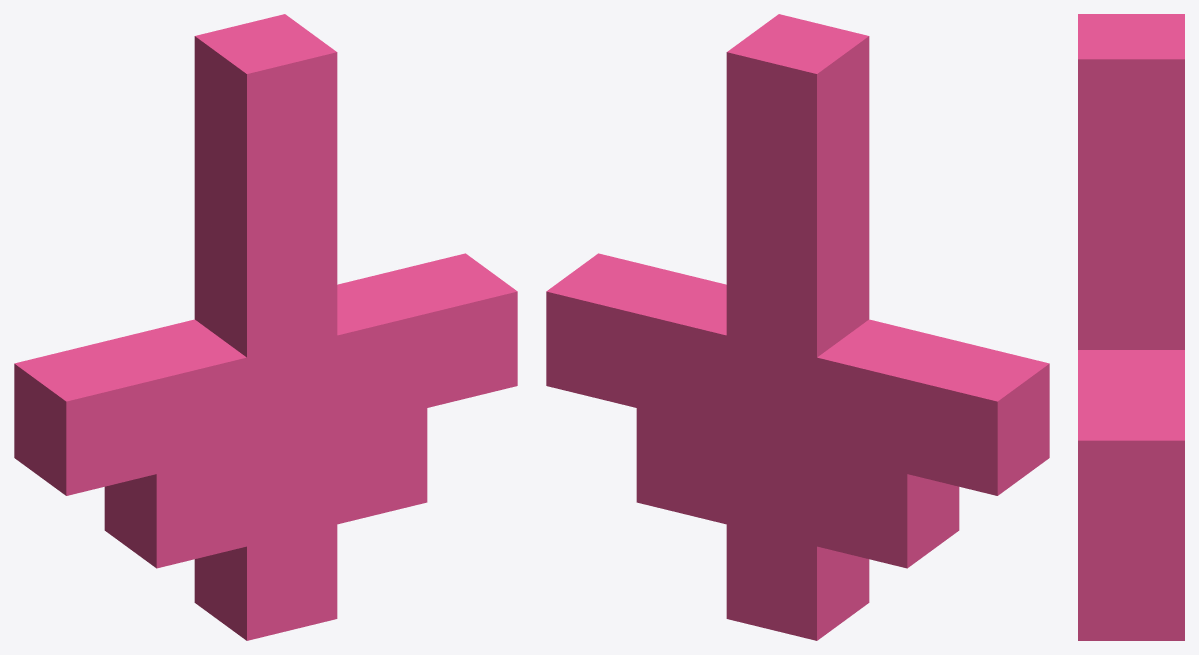
The model's file is target.obj.
3 views of the same model, side by side, from view 1: azimuth 30°, elevation 25°; view 2: azimuth 150°, elevation 25°; view 3: azimuth 270°, elevation 25° (orthographic). The views are drawn at different scales.
Bounding box in the file's own units: 0.5 × 0.6 × 0.1.
1 material, 1 textured.
